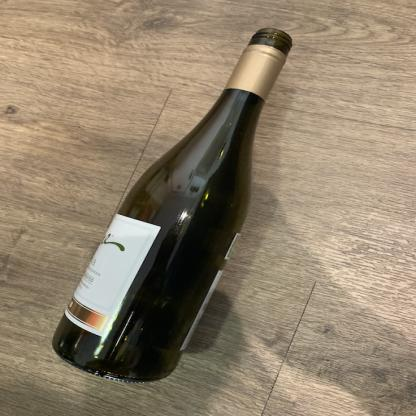trash: (50, 26, 292, 388)
